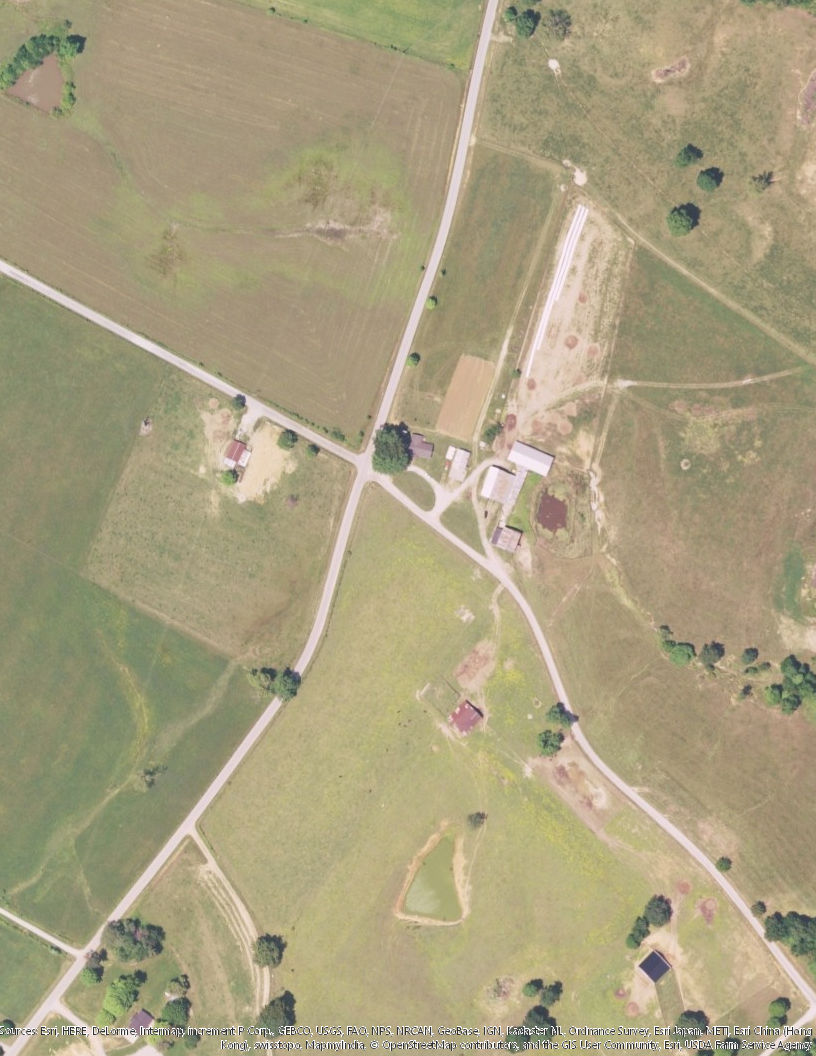cafo: (481, 437, 557, 557)
